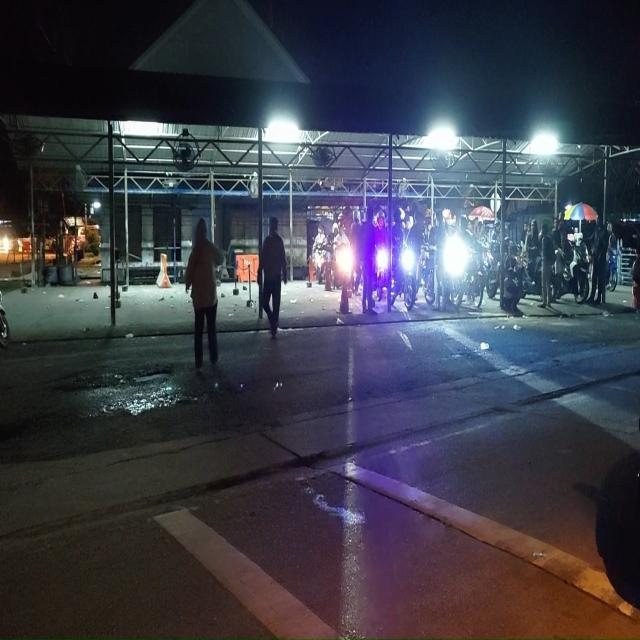Golongan II: (437, 234, 469, 309), (551, 243, 590, 304), (390, 245, 418, 311), (462, 244, 487, 308), (515, 256, 542, 298), (483, 242, 500, 300), (420, 246, 436, 305), (335, 244, 354, 288), (313, 240, 332, 284), (376, 246, 388, 302), (606, 250, 618, 292)
